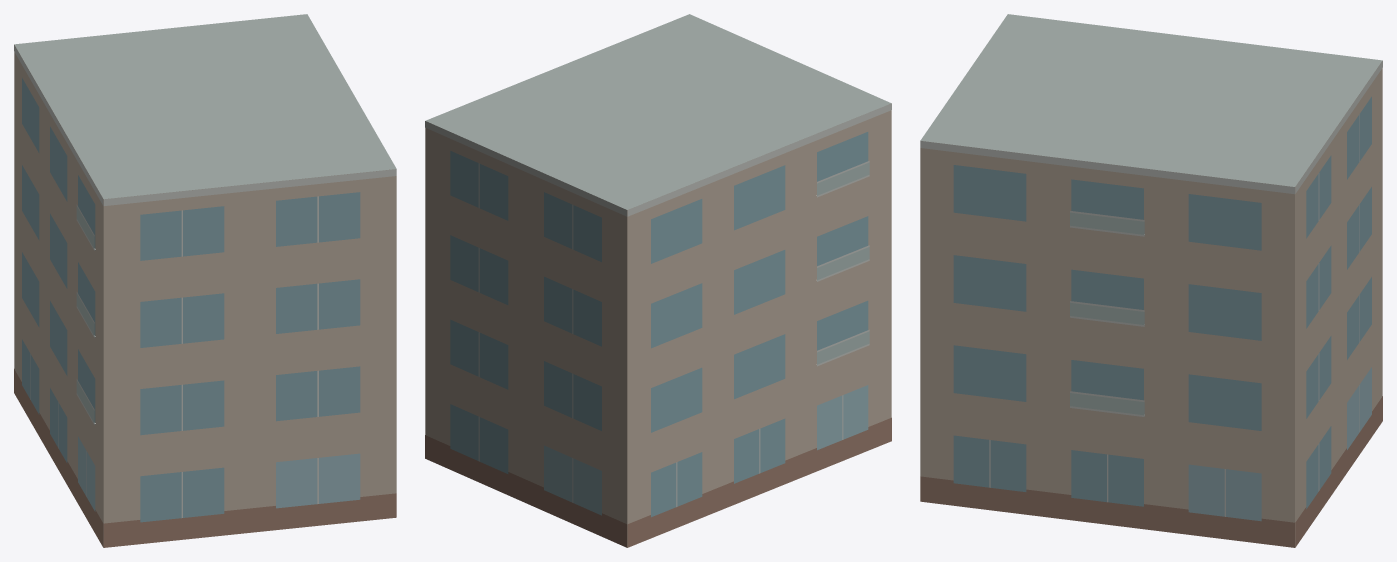
The model's file is residential-b2b0b6ed-867d-4539-95a2-7f60457388a3.glb.
3 views of the same model, side by side, from view 1: azimuth 30°, elevation 25°; view 2: azimuth 150°, elevation 25°; view 3: azimuth 270°, elevation 25° (orthographic). The views are drawn at different scales.
Visible parts, largest first — view 1: residential-b2b0b6ed-867d-4539-95a2-7f60457388a3.tmp; view 2: residential-b2b0b6ed-867d-4539-95a2-7f60457388a3.tmp; view 3: residential-b2b0b6ed-867d-4539-95a2-7f60457388a3.tmp.
Part boxes in pixels (x1,y1,x2,y2): residential-b2b0b6ed-867d-4539-95a2-7f60457388a3.tmp: [14, 14, 396, 547]; residential-b2b0b6ed-867d-4539-95a2-7f60457388a3.tmp: [425, 14, 891, 547]; residential-b2b0b6ed-867d-4539-95a2-7f60457388a3.tmp: [920, 14, 1382, 547].
Size of the model in its own units: 12.56 by 12.2 by 14.18.
